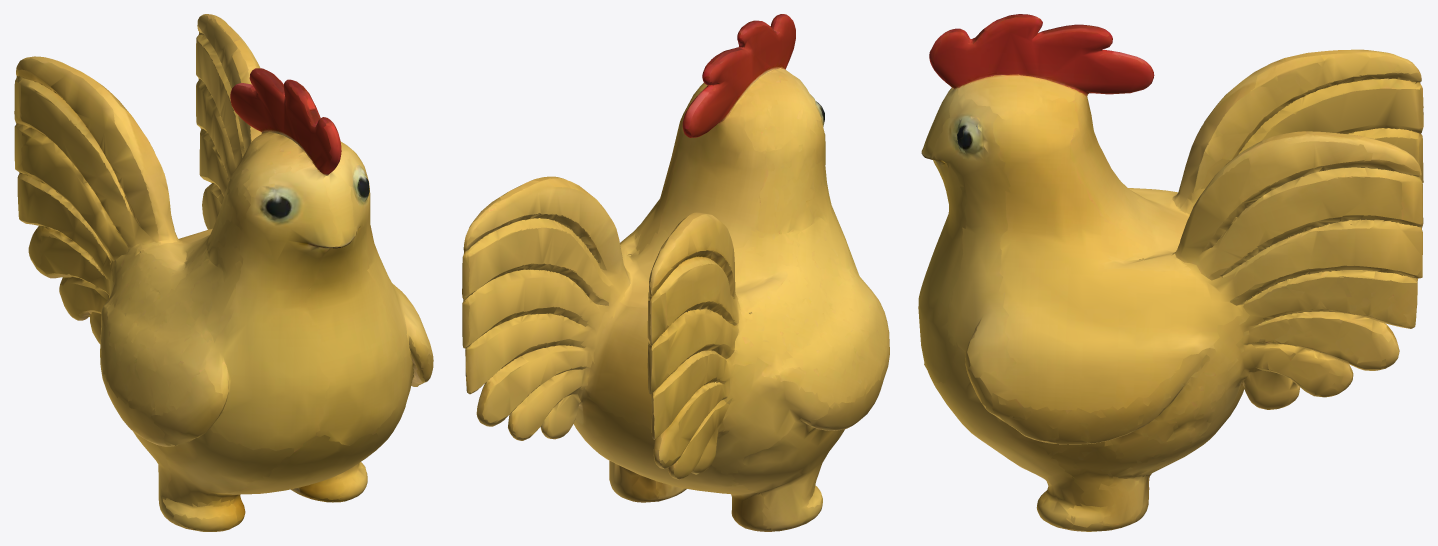
File: naiwa_naiji_runtime.glb
The picture shows the model from 3 angles, left to right: view 1: azimuth 30°, elevation 25°; view 2: azimuth 150°, elevation 25°; view 3: azimuth 270°, elevation 25°; orthographic projection. The views are drawn at different scales.
Visible parts, largest first — view 1: geometry_0; view 2: geometry_0; view 3: geometry_0.
Boxes of the visible parts, bbox=[...] form: geometry_0: bbox=[14, 14, 433, 531]; geometry_0: bbox=[462, 14, 889, 531]; geometry_0: bbox=[918, 14, 1423, 531].
Size of the model in its own units: 0.0666 by 0.1 by 0.0972.
1 material, 1 textured.
